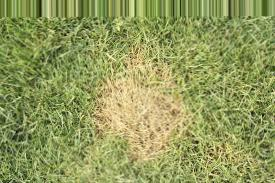patch: (110, 78, 178, 147)
